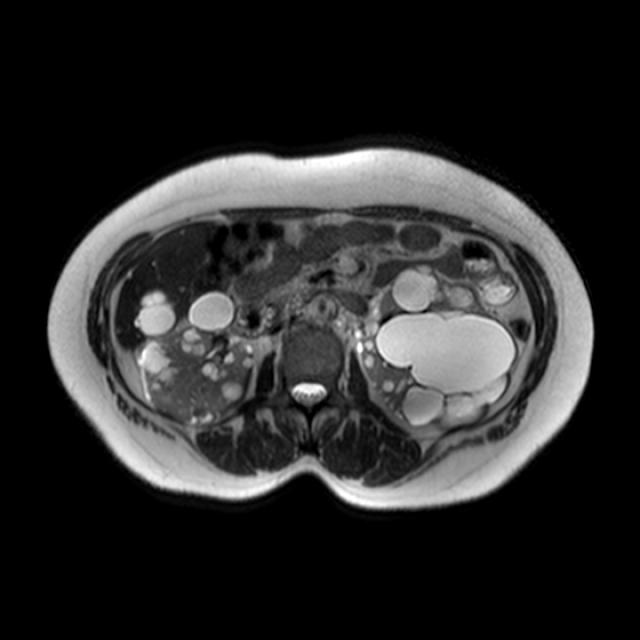sag: (137, 292, 257, 427)
sol: (355, 263, 522, 430)
